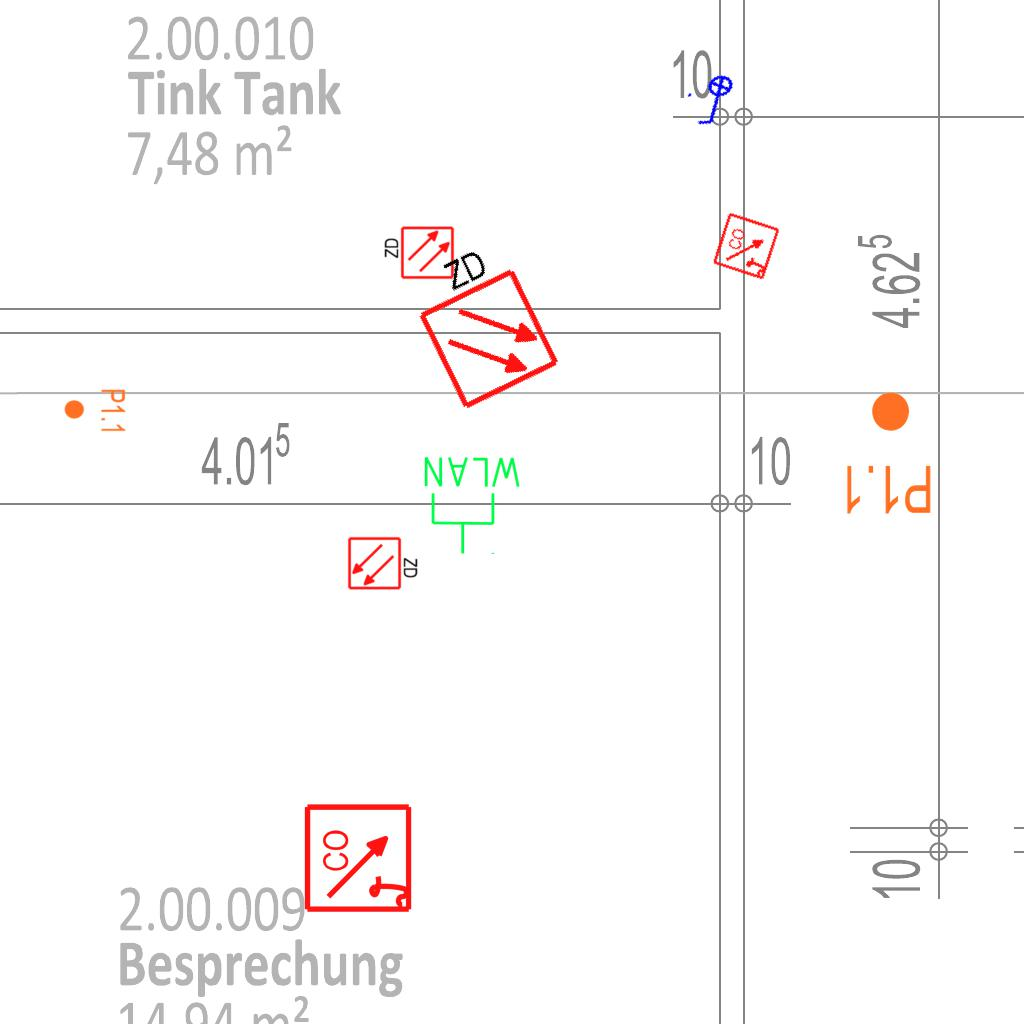Ausschalter_beleuchtet: (682, 69, 750, 133)
Downlight_LED_Einbauleuchten_Flur: (841, 389, 934, 517), (63, 388, 127, 434)
ROA_Rauchmelder_optisch_mit_Signalgeber_(Sockelsirene): (303, 801, 416, 914), (711, 210, 783, 282)
WLAN: (420, 453, 525, 557)
ZD_Melder_in_Zwischendecke_mit_Revisionsoeffnung_mind_40_x_40_cm: (395, 230, 563, 415), (347, 534, 421, 591), (381, 225, 455, 282)
